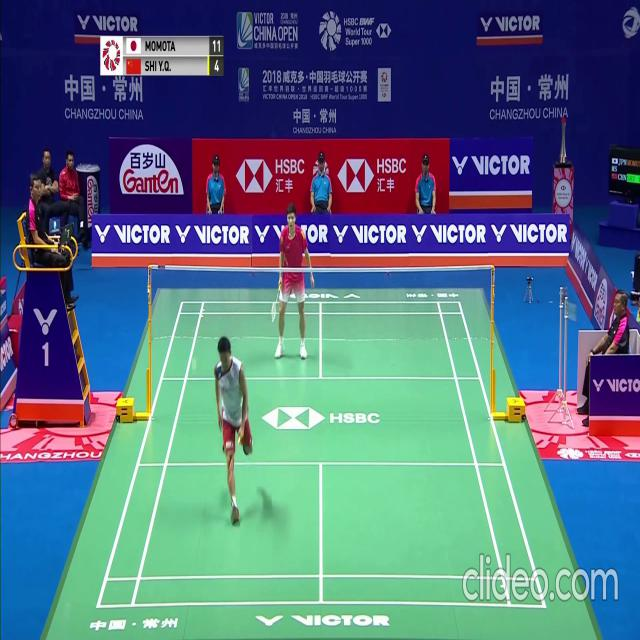Shuttlecock: (191, 361, 196, 368)
